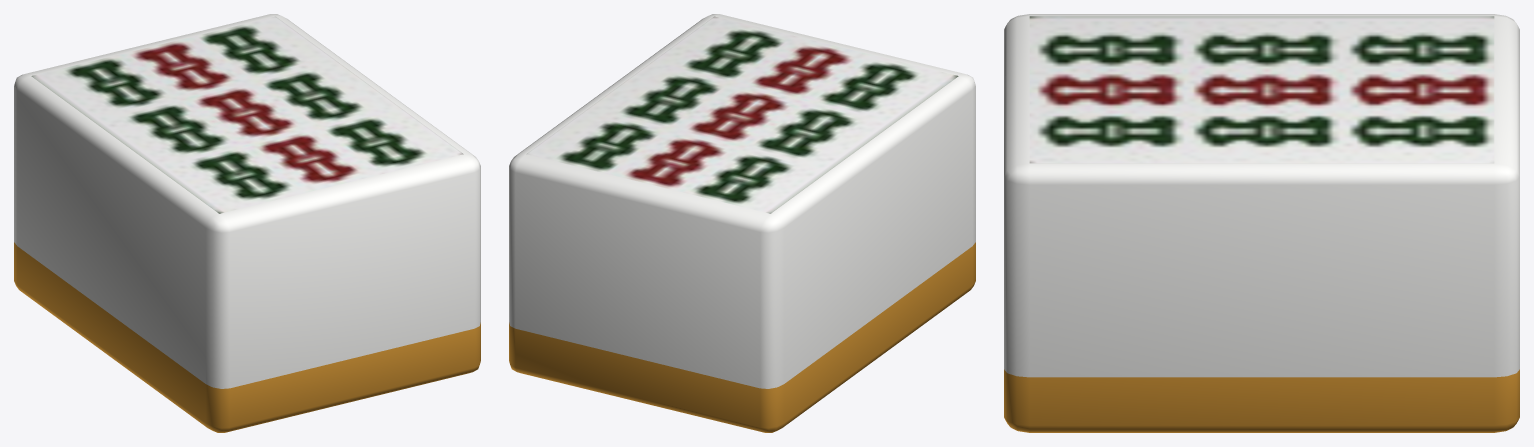
3 views of the same model, side by side, from view 1: azimuth 30°, elevation 25°; view 2: azimuth 150°, elevation 25°; view 3: azimuth 270°, elevation 25° (orthographic). The views are drawn at different scales.
Parts seen in each view (by area): view 1: hai; view 2: hai; view 3: hai.
Boxes of the visible parts, left/top/right/bottom form: hai: left=14, top=14, right=480, bottom=432; hai: left=509, top=14, right=975, bottom=432; hai: left=1004, top=14, right=1519, bottom=432.
Size of the model in its own units: 420 by 320 by 560.
3 materials, 1 textured.
